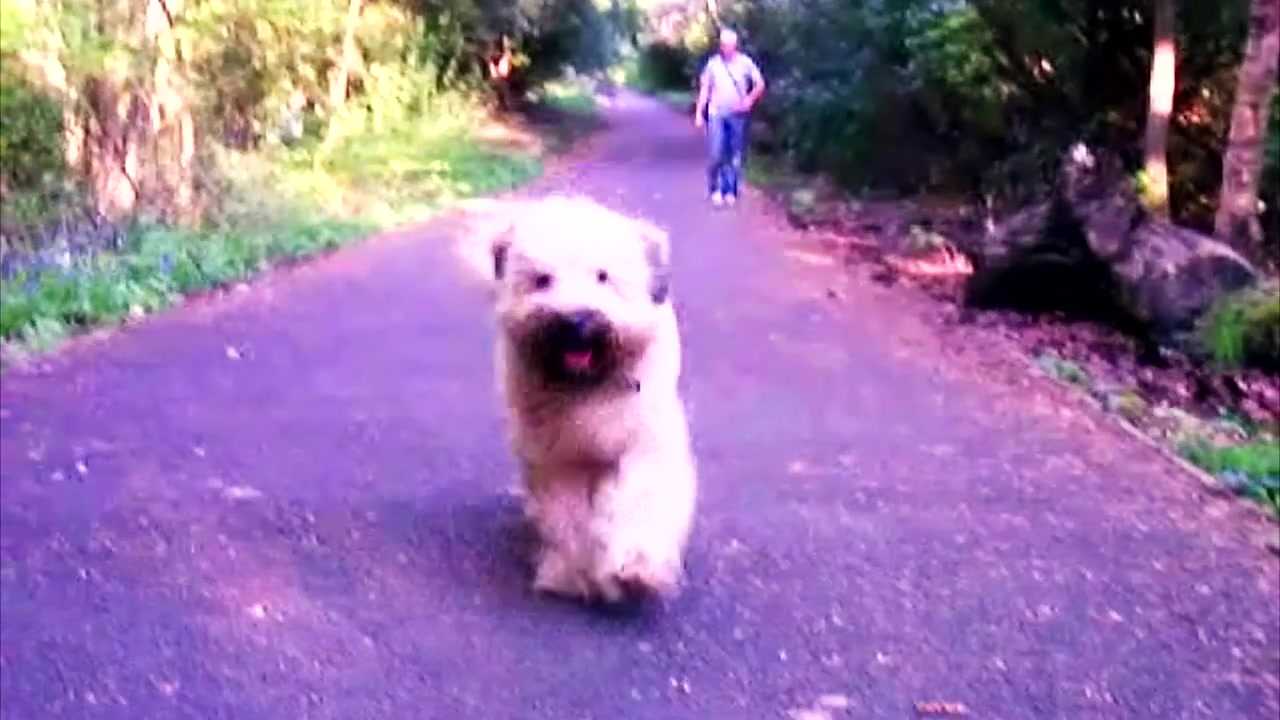dog: (486, 192, 703, 611)
